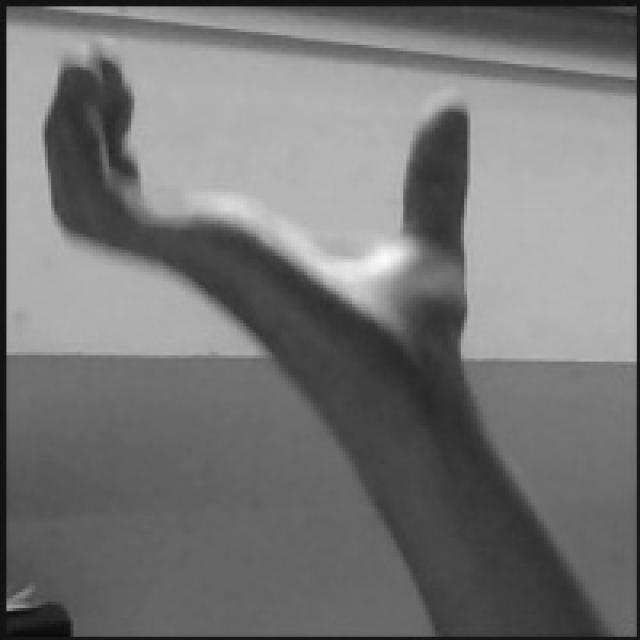space: (36, 40, 467, 387)
